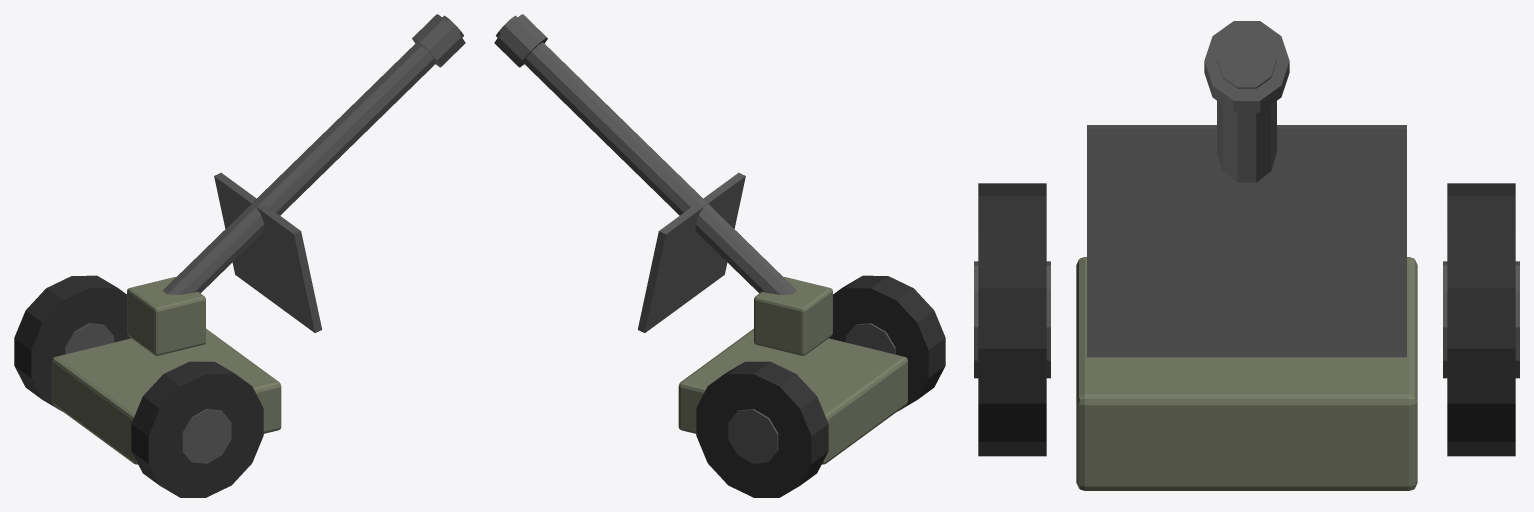
The model's file is artillery.glb.
The picture shows the model from 3 angles, left to right: view 1: azimuth 30°, elevation 25°; view 2: azimuth 150°, elevation 25°; view 3: azimuth 270°, elevation 25°; orthographic projection. The views are drawn at different scales.
Parts seen in each view (by area): view 1: artillery; view 2: artillery; view 3: artillery.
Part boxes in pixels (x1,y1,x2,y2): artillery: (14,14,465,497); artillery: (494,14,945,497); artillery: (974,21,1519,490).
Size of the model in its own units: 2.06 by 1.86 by 1.28.
